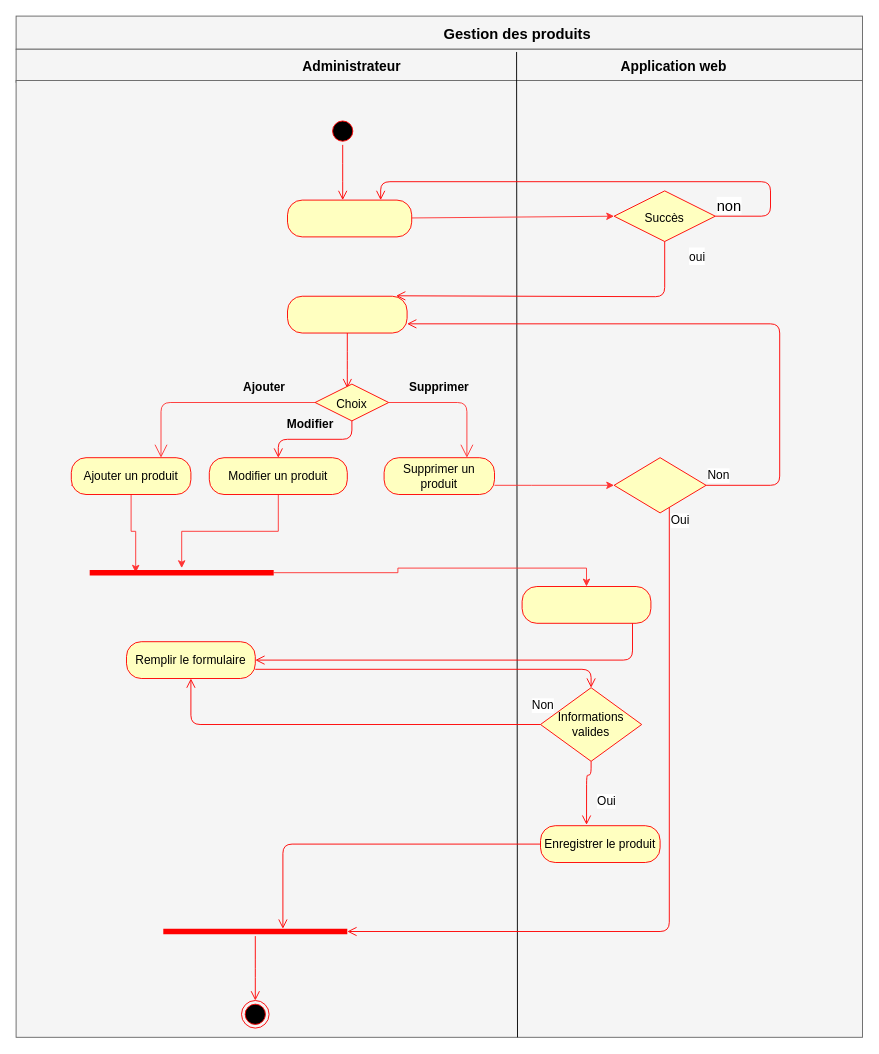
This 879x1054 diagram has some shape labels left out. Here are the shapes that lost their labels. From the top down, the centre of each, then its label:
At (349,218): "S'authentifier".
At (347,314): "Lister des produits".
At (659,485): "Confirmation".
At (586,604): "Afficher le formulaire".
